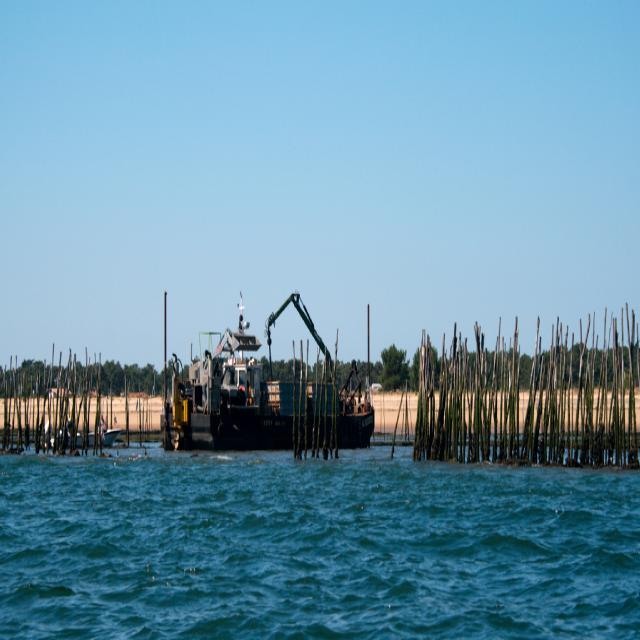Boat: (149, 284, 387, 461)
